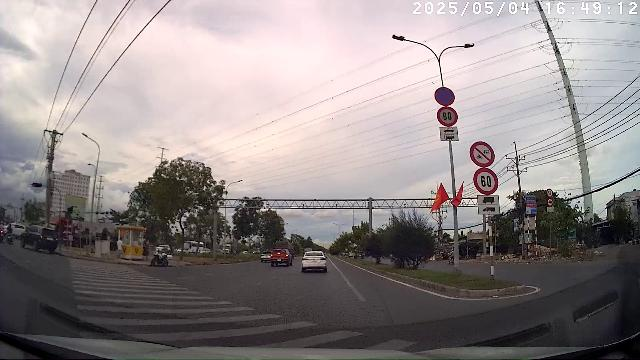127-toc-do-toi-da-50: (547, 189, 553, 197)
127-toc-do-toi-da-60: (473, 168, 499, 195)
127-toc-do-toi-da-80: (437, 106, 458, 126)
130-cam-dung-va-do-xe: (434, 86, 455, 106)
